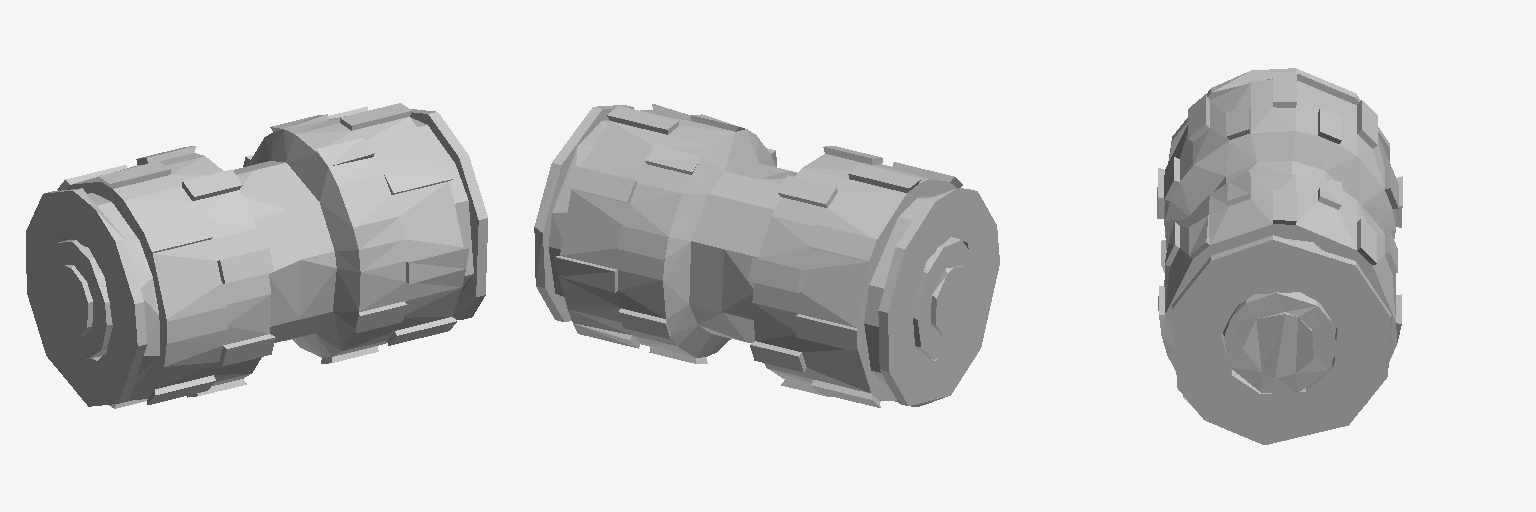
The model's file is Kola_000015.obj.
3 renders of one model, left to right at view 1: azimuth 30°, elevation 25°; view 2: azimuth 150°, elevation 25°; view 3: azimuth 270°, elevation 25°, orthographic.
Visible parts, largest first — view 1: Cylinder.004; view 2: Cylinder.004; view 3: Cylinder.004.
Part boxes in pixels (left/top/right/bottom): Cylinder.004: left=26, top=103, right=487, bottom=408; Cylinder.004: left=534, top=104, right=999, bottom=407; Cylinder.004: left=1157, top=68, right=1402, bottom=444.
Bounding box in the file's own units: 2.17 × 1.25 × 1.25.